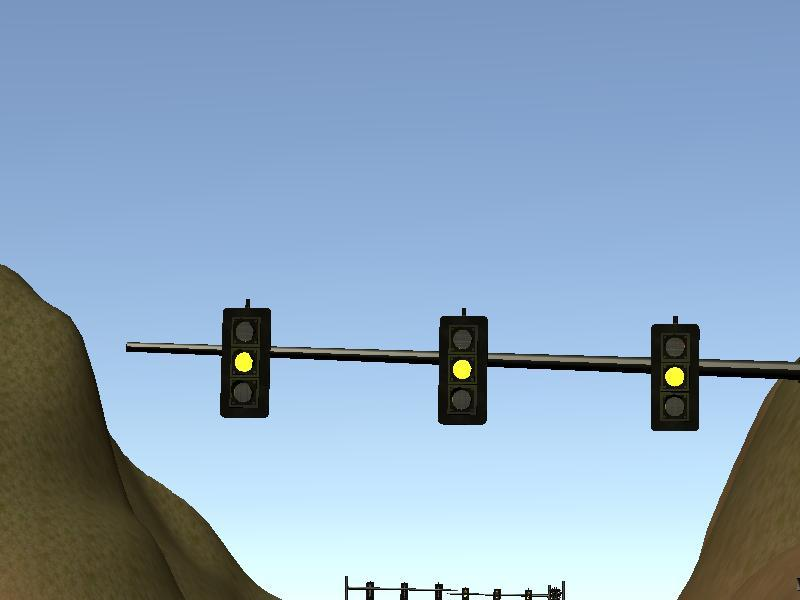Yellow: (650, 324, 699, 429), (438, 317, 486, 424), (222, 309, 269, 418)
